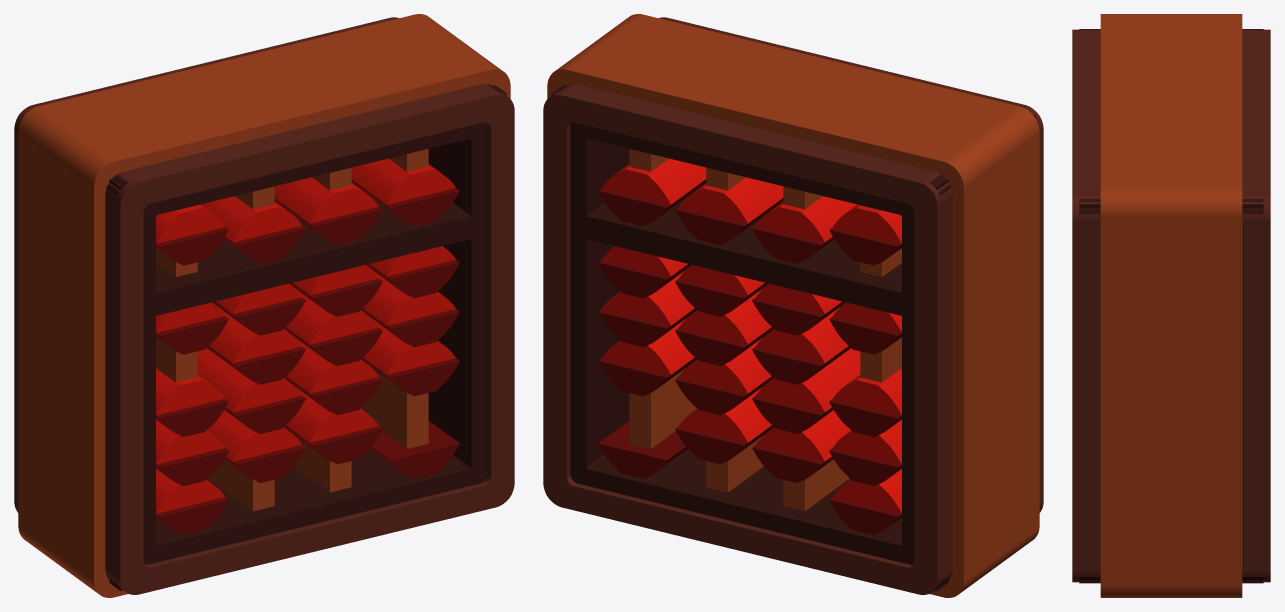
3 views of the same model, side by side, from view 1: azimuth 30°, elevation 25°; view 2: azimuth 150°, elevation 25°; view 3: azimuth 270°, elevation 25° (orthographic). The views are drawn at different scales.
Parts seen in each view (by area): view 1: U+1F9EE_layer00_obj04, U+1F9EE_layer04_obj00, U+1F9EE_layer03_obj02, U+1F9EE_layer03_obj00, U+1F9EE_layer00_obj03, U+1F9EE_layer01_obj04, U+1F9EE_layer01_obj13, U+1F9EE_layer01_obj14, U+1F9EE_layer02_obj04, U+1F9EE_layer01_obj12, U+1F9EE_layer00_obj01, U+1F9EE_layer01_obj06 (+35 smaller); view 2: U+1F9EE_layer00_obj04, U+1F9EE_layer04_obj00, U+1F9EE_layer03_obj02, U+1F9EE_layer03_obj00, U+1F9EE_layer00_obj03, U+1F9EE_layer01_obj04, U+1F9EE_layer01_obj13, U+1F9EE_layer01_obj14, U+1F9EE_layer02_obj04, U+1F9EE_layer01_obj12, U+1F9EE_layer00_obj01, U+1F9EE_layer01_obj06 (+35 smaller); view 3: U+1F9EE_layer00_obj04, U+1F9EE_layer04_obj00, U+1F9EE_layer03_obj03, U+1F9EE_layer03_obj02.
Part boxes in pixels (<box>): U+1F9EE_layer00_obj04: <box>18,14,510,597</box>; U+1F9EE_layer04_obj00: <box>14,17,514,594</box>; U+1F9EE_layer03_obj02: <box>22,85,506,590</box>; U+1F9EE_layer03_obj00: <box>146,197,481,315</box>; U+1F9EE_layer00_obj03: <box>361,149,428,448</box>; U+1F9EE_layer01_obj04: <box>274,177,378,223</box>; U+1F9EE_layer01_obj13: <box>351,158,455,204</box>; U+1F9EE_layer01_obj14: <box>197,348,301,412</box>; U+1F9EE_layer02_obj04: <box>370,421,459,478</box>; U+1F9EE_layer01_obj12: <box>200,196,301,242</box>; U+1F9EE_layer00_obj01: <box>208,186,274,511</box>; U+1F9EE_layer01_obj06: <box>207,410,301,461</box>; U+1F9EE_layer00_obj04: <box>547,14,1039,597</box>; U+1F9EE_layer04_obj00: <box>543,17,1043,594</box>; U+1F9EE_layer03_obj02: <box>551,85,1035,590</box>; U+1F9EE_layer03_obj00: <box>576,197,911,315</box>; U+1F9EE_layer00_obj03: <box>629,149,696,448</box>; U+1F9EE_layer01_obj04: <box>679,177,783,223</box>; U+1F9EE_layer01_obj13: <box>602,158,706,204</box>; U+1F9EE_layer01_obj14: <box>756,348,860,412</box>; U+1F9EE_layer02_obj04: <box>598,421,687,478</box>; U+1F9EE_layer01_obj12: <box>756,196,857,242</box>; U+1F9EE_layer00_obj01: <box>783,186,849,511</box>; U+1F9EE_layer01_obj06: <box>756,410,850,461</box>; U+1F9EE_layer00_obj04: <box>1100,14,1242,597</box>; U+1F9EE_layer04_obj00: <box>1072,29,1270,582</box>; U+1F9EE_layer03_obj03: <box>1079,199,1263,214</box>; U+1F9EE_layer03_obj02: <box>1079,29,1263,583</box>.
Bounding box in the file's own units: 0.3175 × 0.3174 × 0.14.
